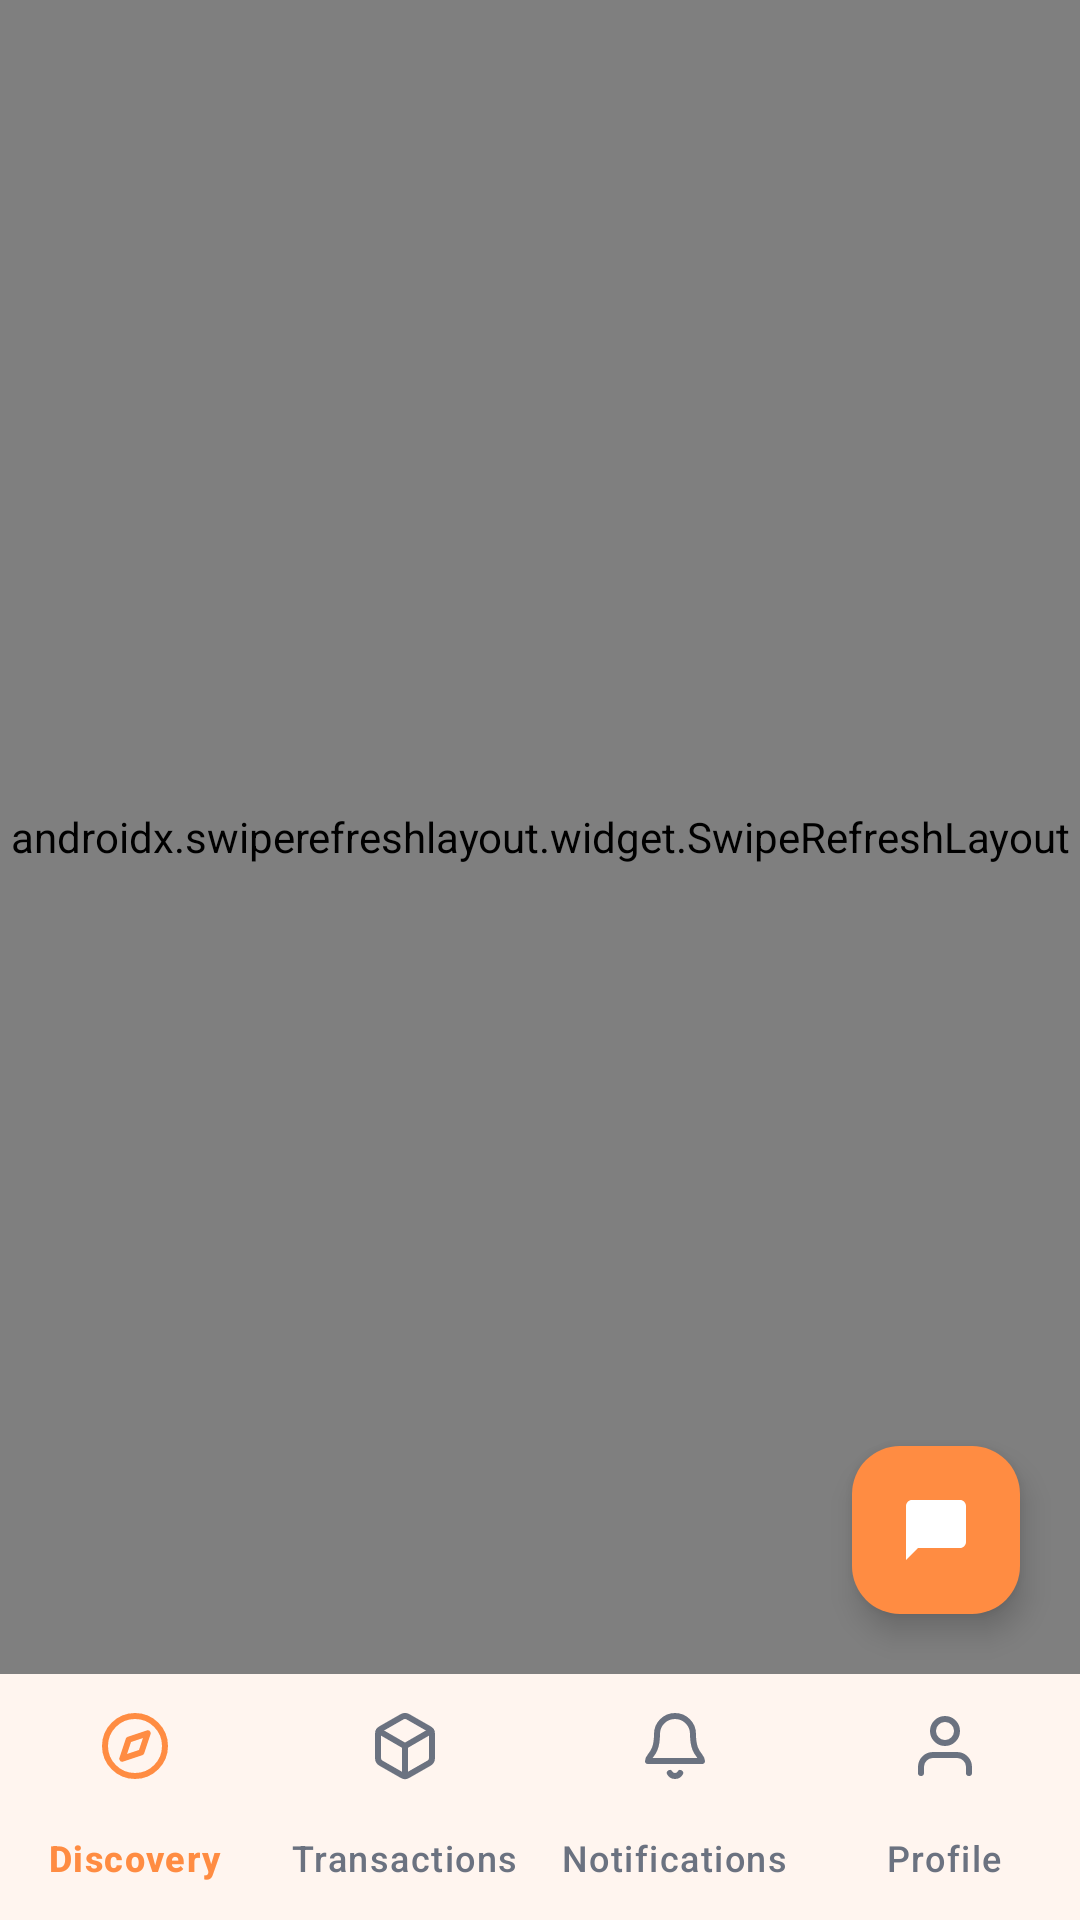

Where icons sit on this 1080x1920 app screen, as (x1, y1, x2, y2):
Virtual Assistant: (852, 1446, 1020, 1614)
